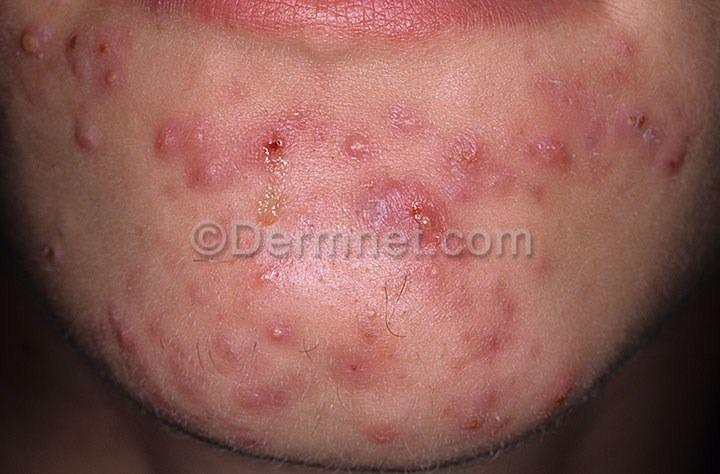Acne: (11, 31, 686, 449)
